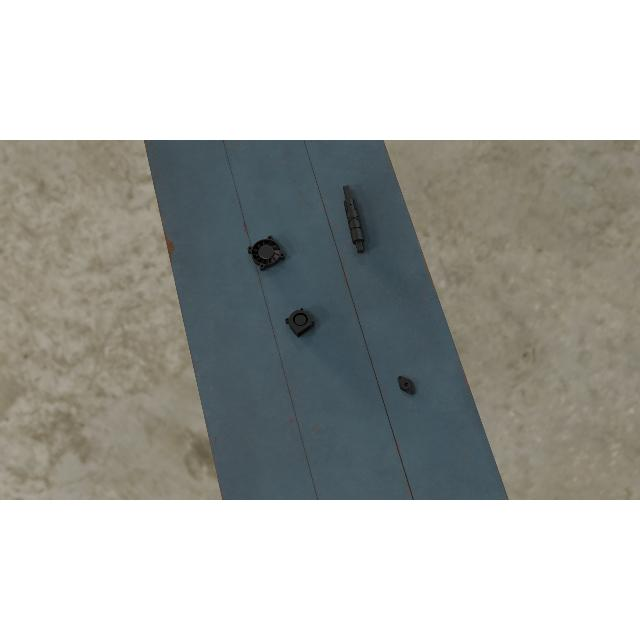Pieza1: (340, 183, 366, 255)
Pieza2: (394, 372, 418, 398)
Pieza3: (284, 306, 316, 338)
Pieza4: (246, 235, 286, 273)
